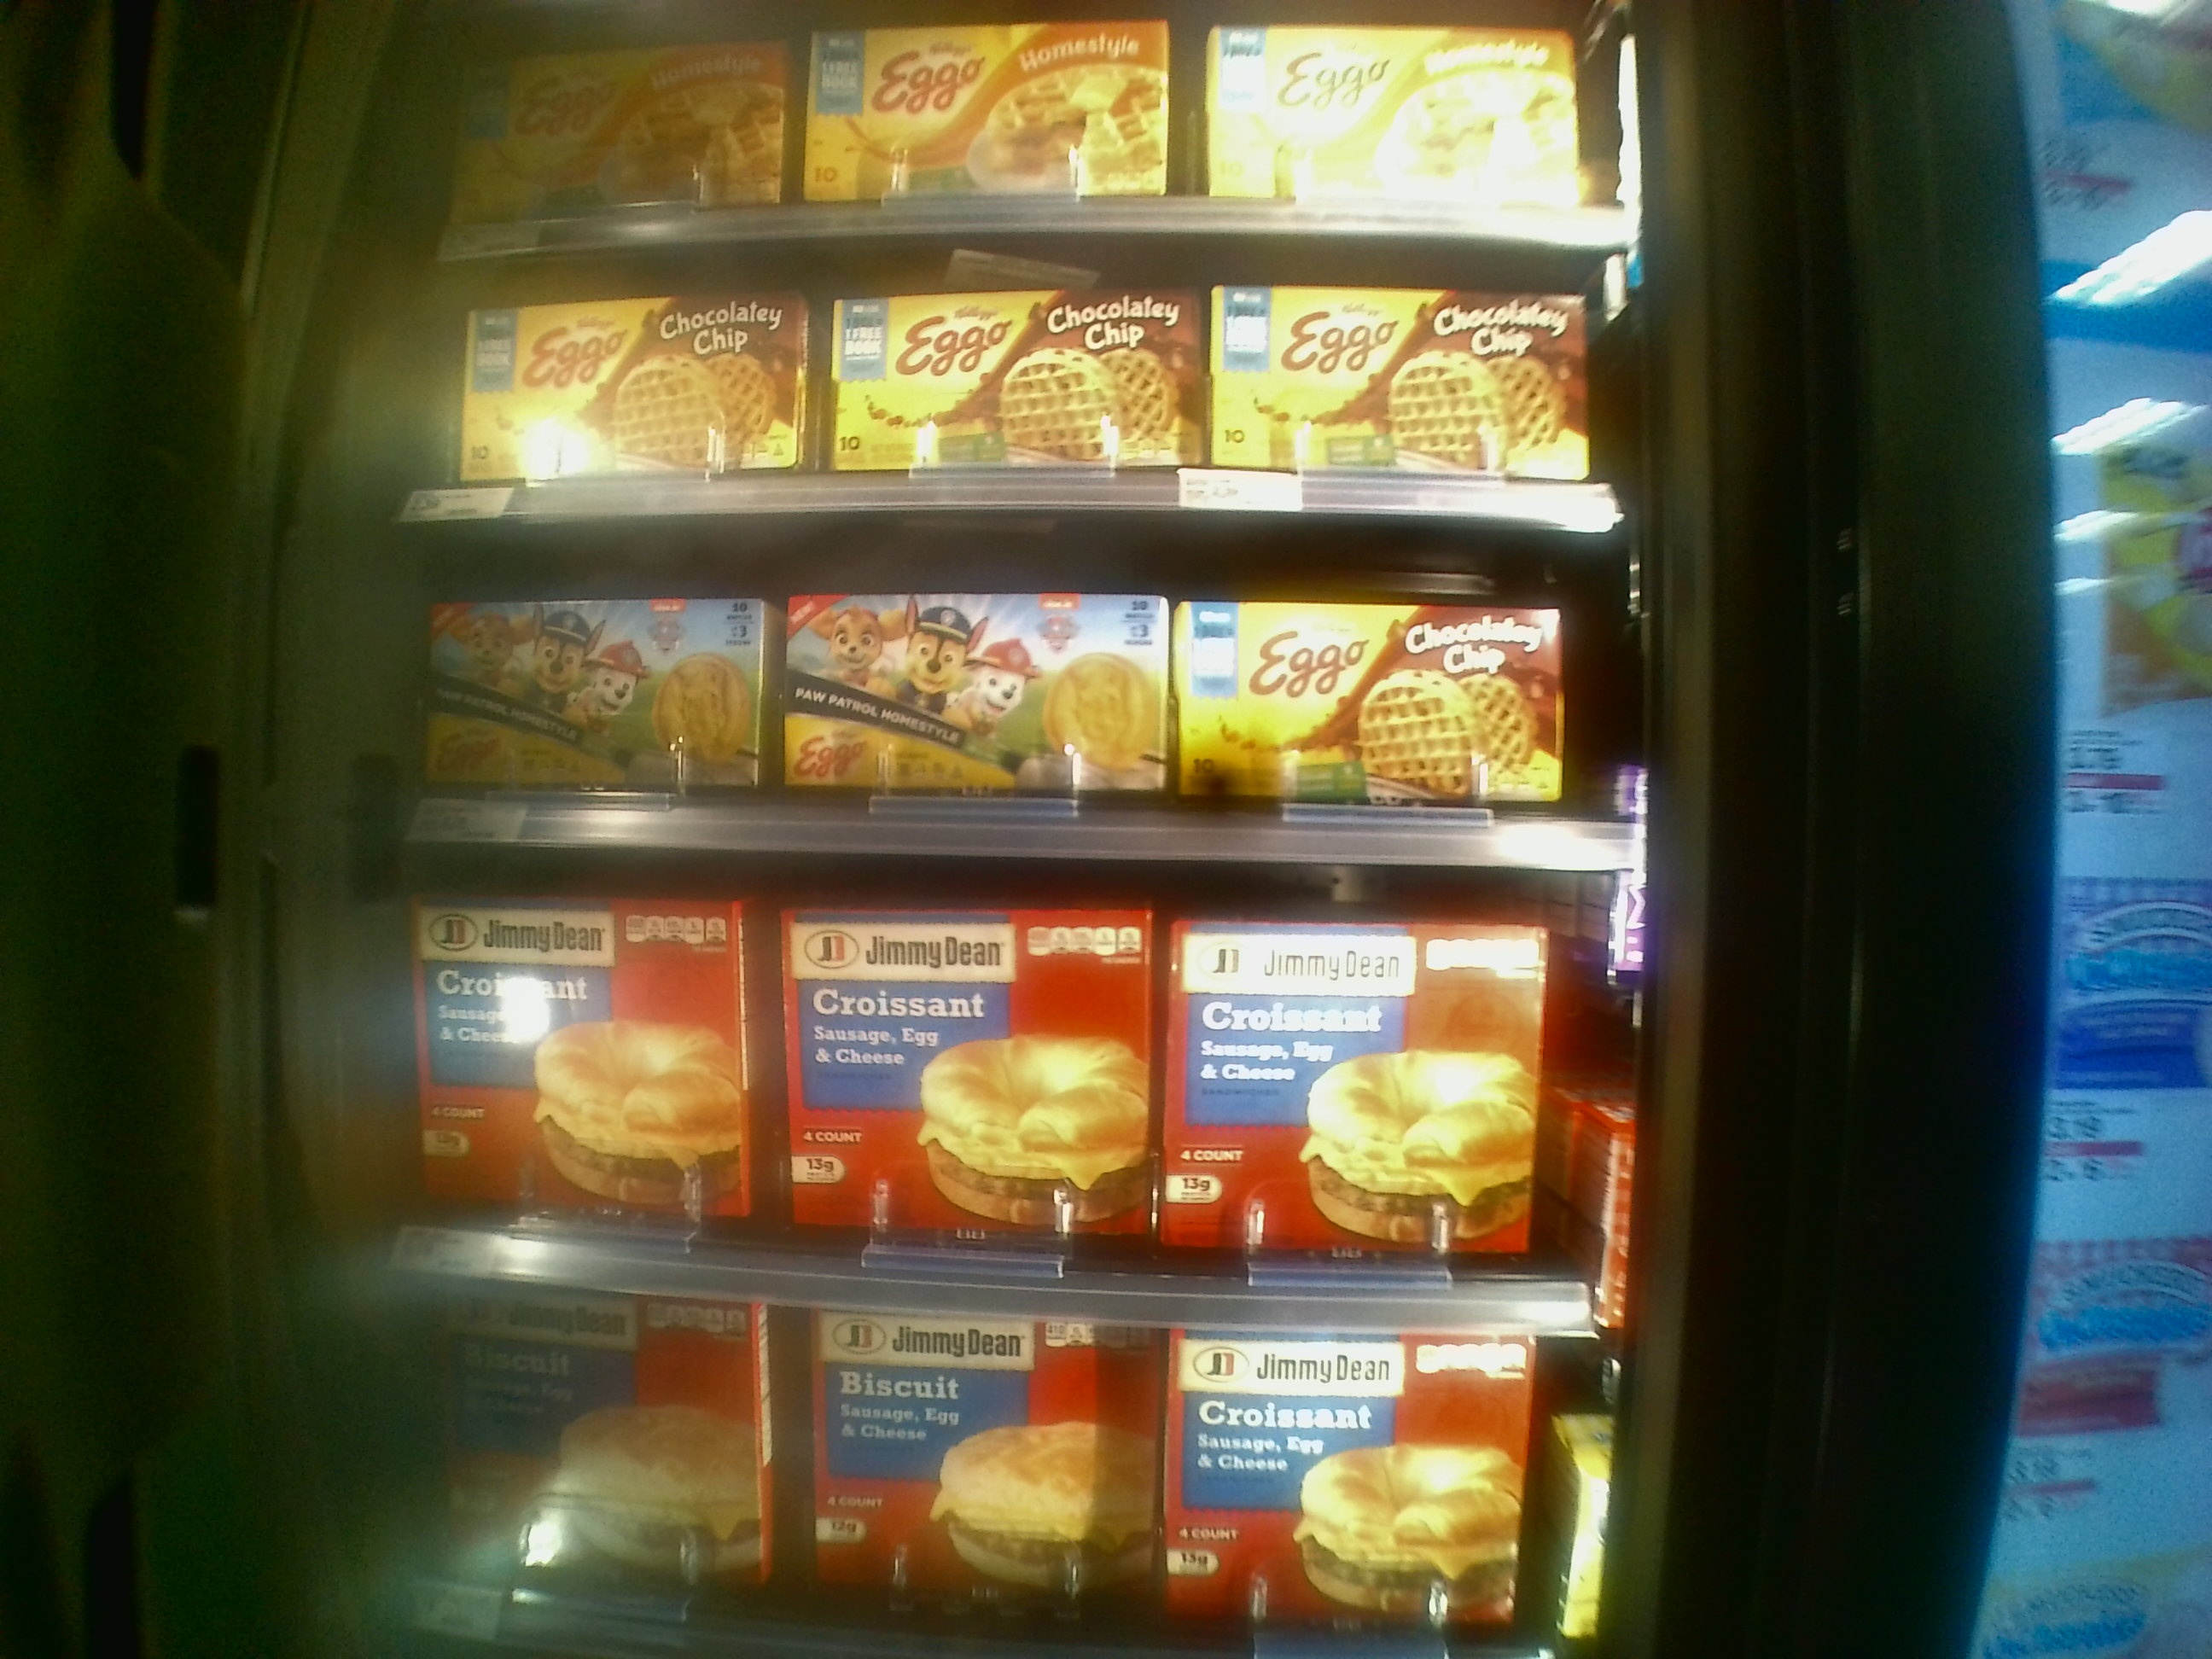shelf: (376, 838, 1609, 1333), (395, 512, 1635, 854), (388, 232, 1622, 532)
